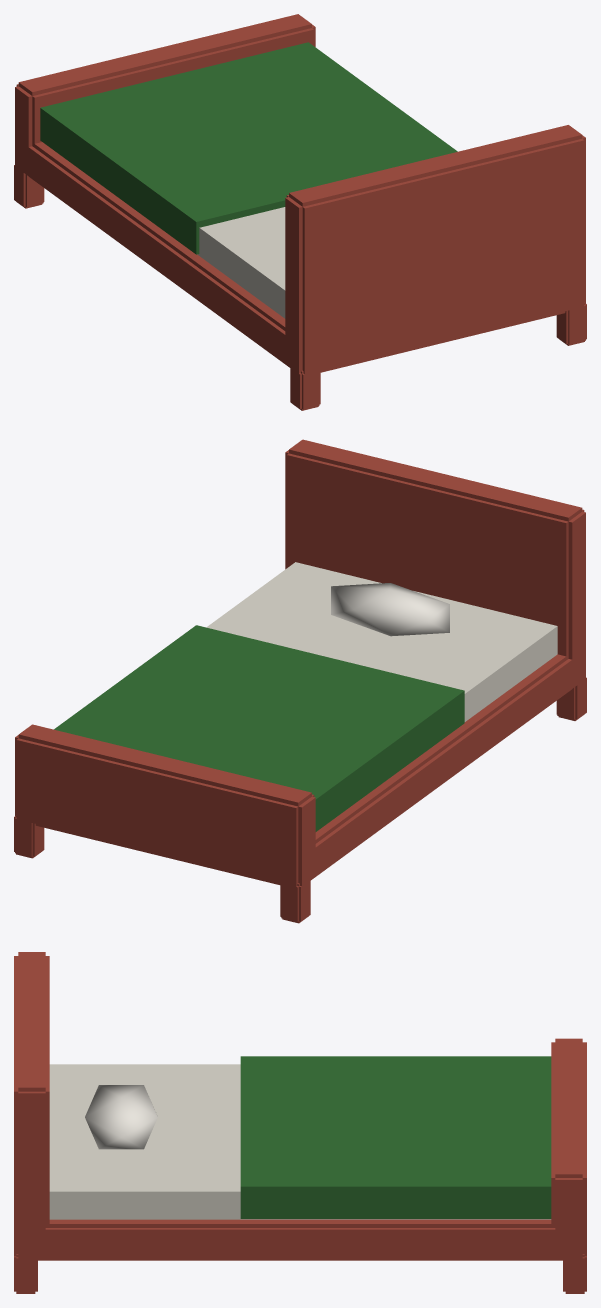
Rendered from rich_mahogany_bed_v0.glb.
The picture shows the model from 3 angles, top to bottom: view 1: azimuth 30°, elevation 25°; view 2: azimuth 150°, elevation 25°; view 3: azimuth 270°, elevation 25°; orthographic projection.
Visible parts, largest first — view 1: rich_mahogany_bed_v0; view 2: rich_mahogany_bed_v0; view 3: rich_mahogany_bed_v0.
Boxes of the visible parts, x1,y1,x2,y2 form: rich_mahogany_bed_v0: (14,14,586,410); rich_mahogany_bed_v0: (14,439,586,923); rich_mahogany_bed_v0: (14,952,586,1293).
Bounding box in the file's own units: 1.38 × 0.95 × 2.4.
